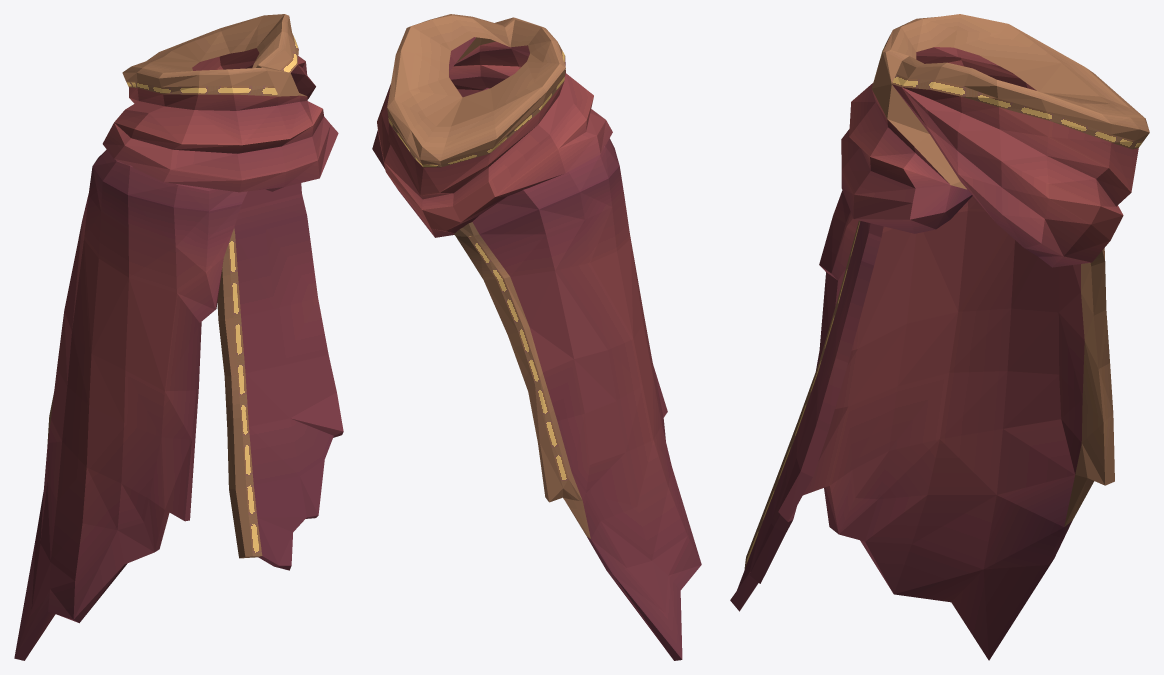
The model's file is CharSkyKid_Wing_AP14TatteredScarf_01.glb.
3 views of the same model, side by side, from view 1: azimuth 30°, elevation 25°; view 2: azimuth 150°, elevation 25°; view 3: azimuth 270°, elevation 25° (orthographic). The views are drawn at different scales.
Visible parts, largest first — view 1: CharSkyKid_Wing_AP14TatteredScarf_01; view 2: CharSkyKid_Wing_AP14TatteredScarf_01; view 3: CharSkyKid_Wing_AP14TatteredScarf_01.
Boxes of the visible parts, x1,y1,x2,y2 form: CharSkyKid_Wing_AP14TatteredScarf_01: [14, 14, 343, 660]; CharSkyKid_Wing_AP14TatteredScarf_01: [372, 14, 701, 660]; CharSkyKid_Wing_AP14TatteredScarf_01: [730, 14, 1149, 660].
Size of the model in its own units: 4.93 by 9.19 by 4.66.
1 material, 1 textured.
